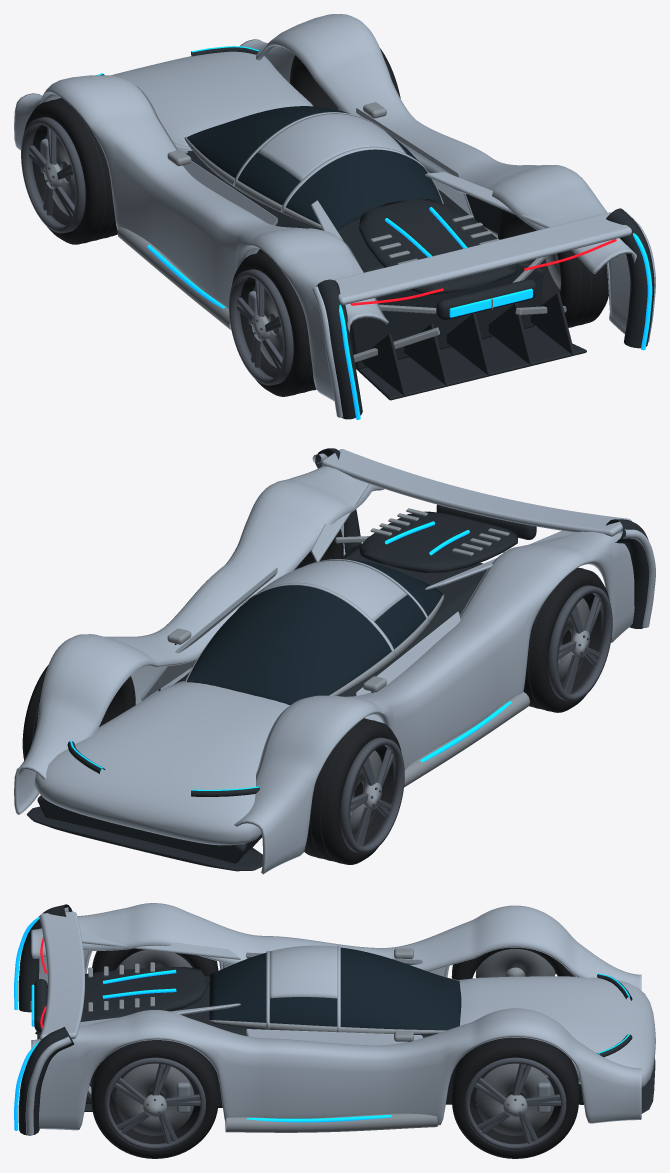
File: Cloudline_C04.glb
3 views of the same model, one above another, from view 1: azimuth 30°, elevation 25°; view 2: azimuth 150°, elevation 25°; view 3: azimuth 270°, elevation 25° (orthographic). The views are drawn at different scales.
Visible parts, largest first — view 1: Continuous silver haunch -1, Continuous silver haunch 1, Cabin continuous glazing, Low silver nose, Swept full-width rear bridge, Low carbon chassis, Engine cover, Front tire -1, Cabin flush roof, Recessed diffuser floor, Rear tire -1, Rear tire 1 (+25 smaller); view 2: Continuous silver haunch -1, Low silver nose, Continuous silver haunch 1, Cabin continuous glazing, Swept full-width rear bridge, Engine cover, Front tire -1, Low carbon chassis, Rear tire -1, Cabin flush roof, Front aero lip, Rear rim lip -1 (+15 smaller); view 3: Continuous silver haunch 1, Continuous silver haunch -1, Cabin continuous glazing, Low silver nose, Front tire 1, Rear tire 1, Engine cover, Swept full-width rear bridge, Cabin flush roof, Lower silver sill 1, Front brake rotor 1, Rear brake rotor 1 (+21 smaller).
Boxes of the visible parts, box(x1,y1,x2,y2) form: Continuous silver haunch -1: box(14, 75, 388, 401); Continuous silver haunch 1: box(240, 14, 636, 333); Cabin continuous glazing: box(185, 106, 441, 230); Low silver nose: box(45, 51, 313, 153); Swept full-width rear bridge: box(334, 212, 631, 304); Low carbon chassis: box(186, 151, 543, 369); Engine cover: box(359, 198, 517, 294); Front tire -1: box(24, 98, 117, 244); Cabin flush roof: box(258, 113, 406, 180); Recessed diffuser floor: box(356, 326, 586, 400); Rear tire -1: box(232, 251, 315, 396); Rear tire 1: box(498, 209, 608, 327); Continuous silver haunch -1: box(234, 531, 634, 874); Low silver nose: box(34, 681, 289, 845); Continuous silver haunch 1: box(14, 466, 384, 814); Cabin continuous glazing: box(186, 560, 444, 705); Swept full-width rear bridge: box(321, 449, 631, 536); Engine cover: box(359, 511, 517, 572); Front tire -1: box(304, 718, 401, 864); Low carbon chassis: box(37, 544, 486, 863); Rear tire -1: box(523, 567, 609, 712); Cabin flush roof: box(257, 560, 407, 621); Front aero lip: box(26, 806, 262, 871); Rear rim lip -1: box(548, 585, 612, 701); Continuous silver haunch 1: box(31, 1008, 641, 1130); Continuous silver haunch -1: box(31, 903, 641, 990); Cabin continuous glazing: box(209, 947, 461, 1034); Low silver nose: box(458, 976, 655, 1087); Front tire 1: box(452, 1037, 578, 1158); Rear tire 1: box(91, 1040, 218, 1158); Engine cover: box(80, 966, 209, 1021); Swept full-width rear bridge: box(39, 911, 84, 1040); Cabin flush roof: box(270, 945, 337, 998); Lower silver sill 1: box(225, 1113, 437, 1132); Front brake rotor 1: box(475, 1063, 554, 1135); Rear brake rotor 1: box(115, 1063, 194, 1135).
Bounding box in the file's own units: 2.65 × 1.26 × 5.18.
